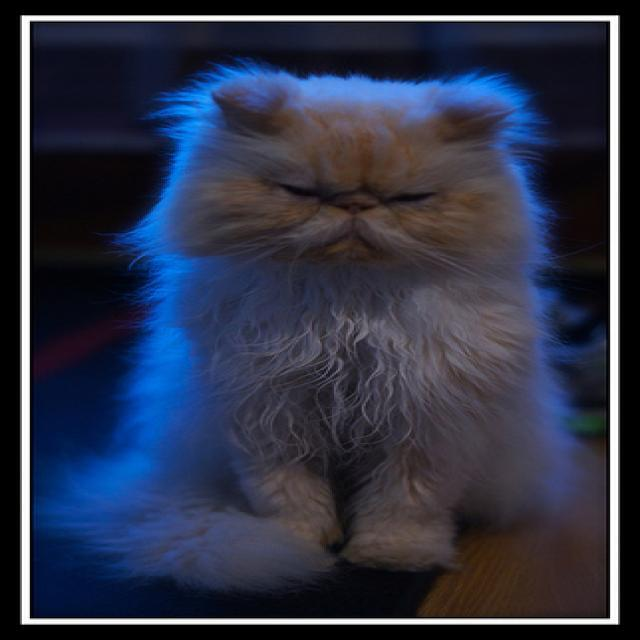Persian: (138, 70, 536, 276)
